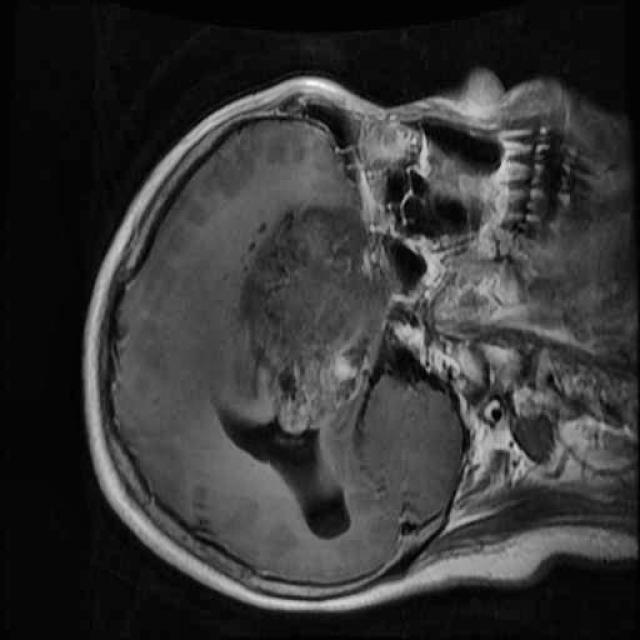Tumor: (232, 188, 402, 438)
